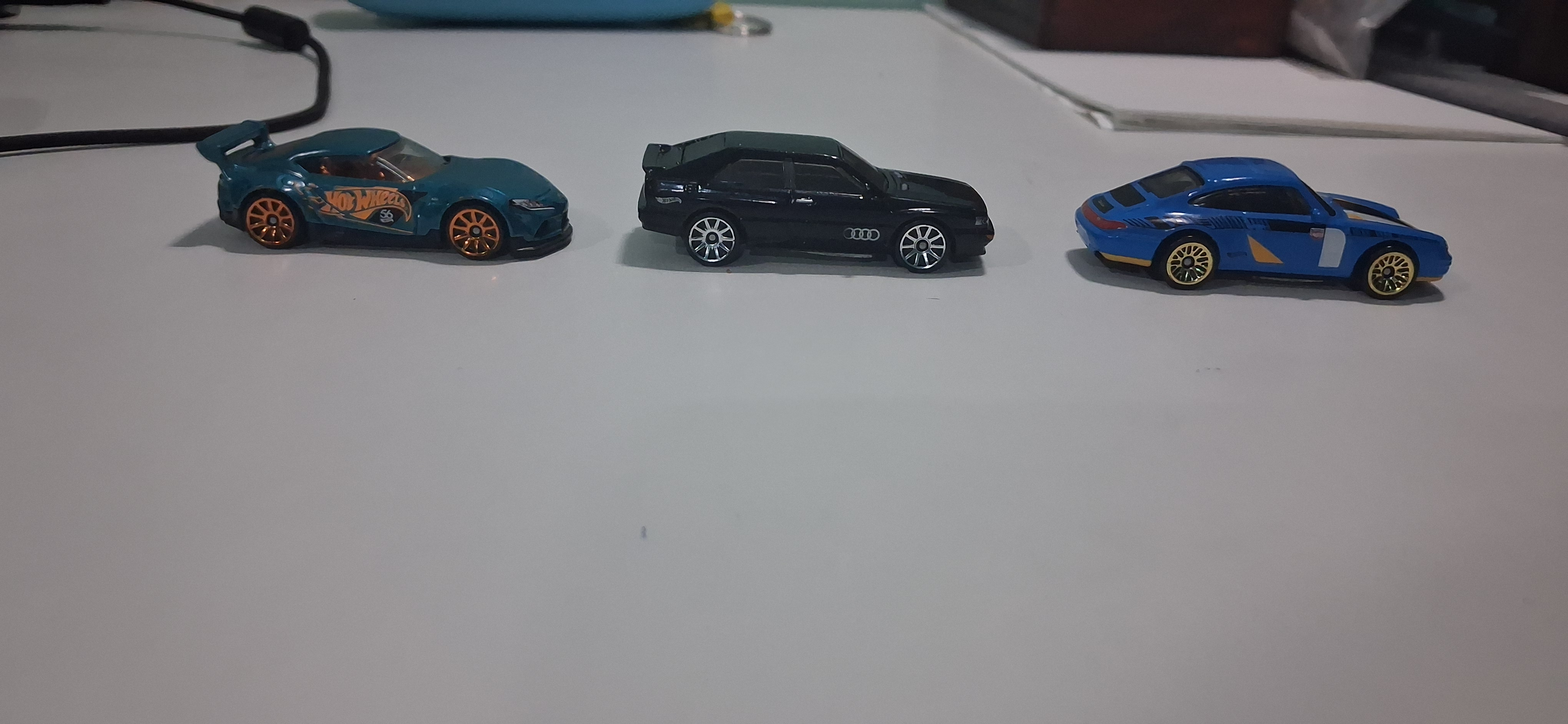Audi_Quattro: (613, 107, 1011, 294)
Porsche_Carrera: (1066, 111, 1516, 333)
Toyota_GR_Supra: (187, 102, 582, 277)
